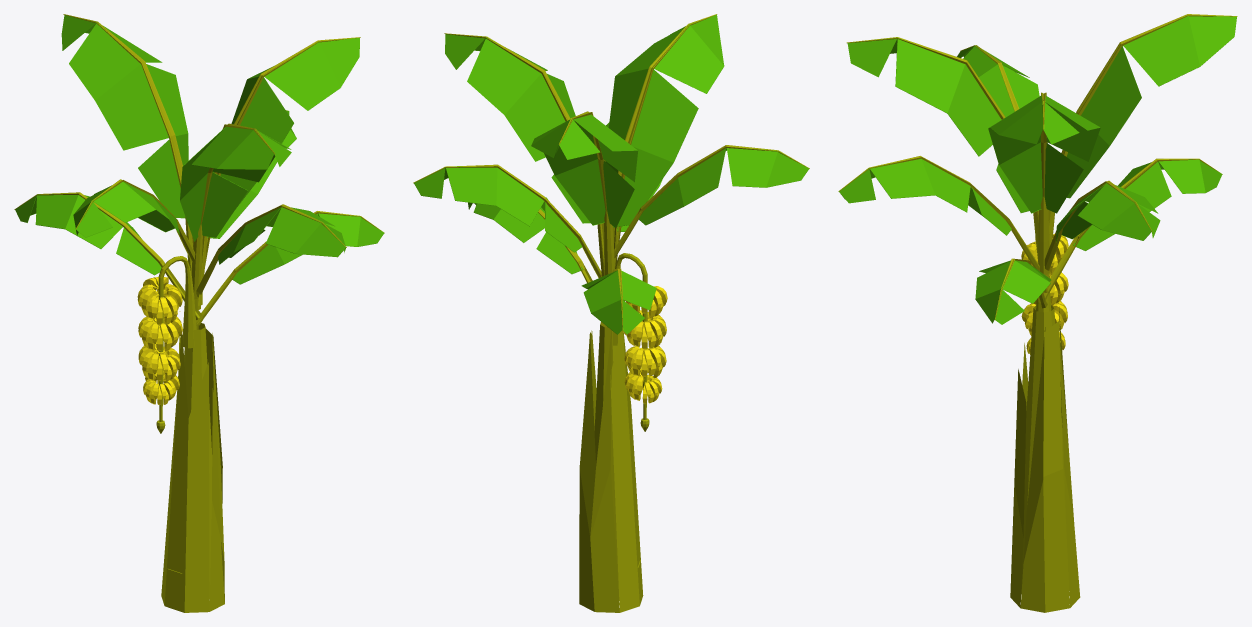
Rendered from bananatree_1texture1layer.fbx.
3 renders of one model, left to right at view 1: azimuth 30°, elevation 25°; view 2: azimuth 150°, elevation 25°; view 3: azimuth 270°, elevation 25°, orthographic. The views are drawn at different scales.
Visible parts, largest first — view 1: Cube; view 2: Cube; view 3: Cube.
Part boxes in pixels (x1,y1,x2,y2): Cube: (14, 14, 384, 612); Cube: (413, 14, 809, 612); Cube: (838, 14, 1237, 612).
Size of the model in its own units: 1705 by 2683 by 1708.
Materials: 1 (1 with a texture image).
